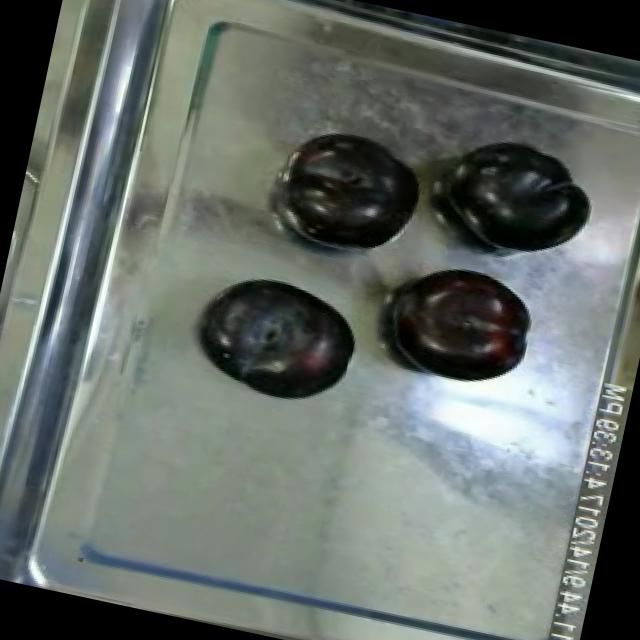Fruit: (192, 266, 368, 418), (434, 127, 608, 276), (376, 250, 546, 400), (269, 118, 433, 265)
